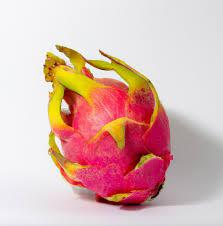dragon fruit: (42, 43, 173, 205)
